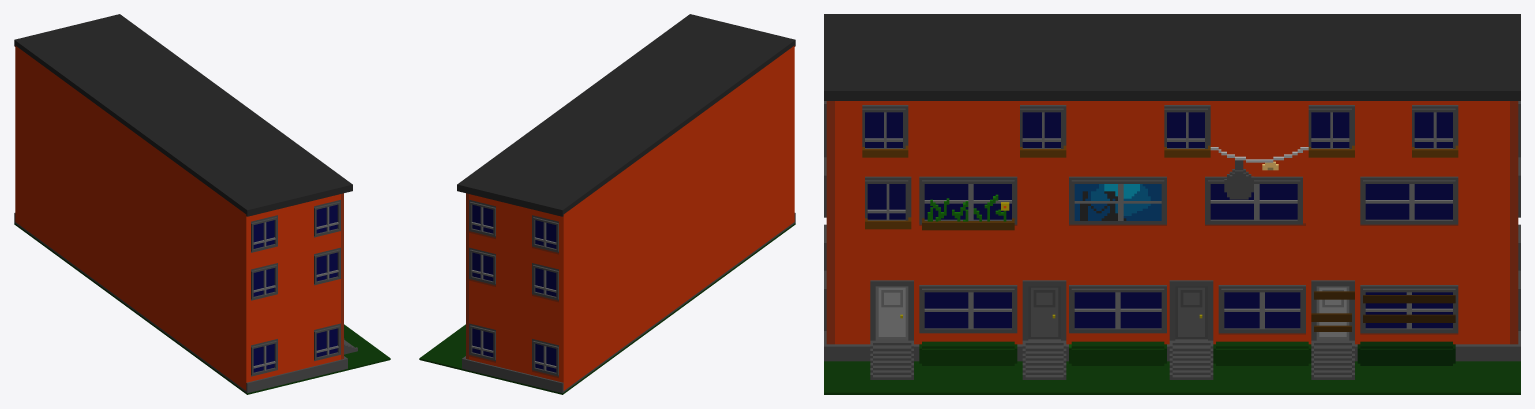
Rendered from House.obj.
The picture shows the model from 3 angles, left to right: view 1: azimuth 30°, elevation 25°; view 2: azimuth 150°, elevation 25°; view 3: azimuth 270°, elevation 25°; orthographic projection. The views are drawn at different scales.
Size of the model in its own units: 9.1 by 11.2 by 25.6.
1 material, 1 textured.
